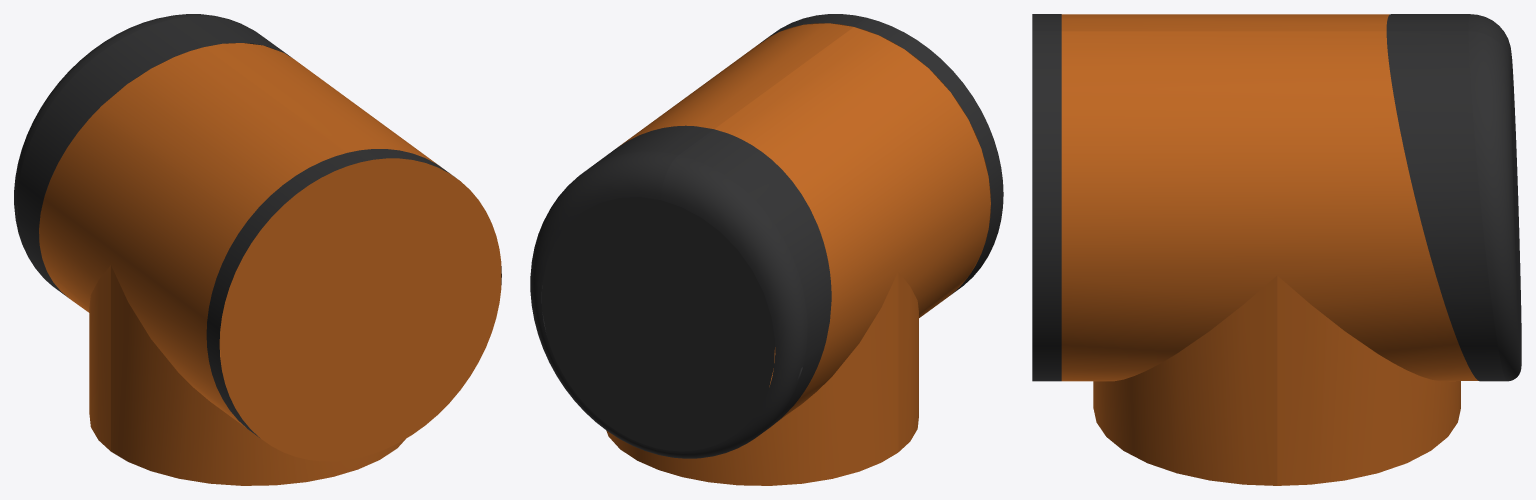
3 views of the same model, side by side, from view 1: azimuth 30°, elevation 25°; view 2: azimuth 150°, elevation 25°; view 3: azimuth 270°, elevation 25° (orthographic). The views are drawn at different scales.
Visible parts, largest first — view 1: mesh; view 2: mesh; view 3: mesh.
Boxes of the visible parts, x1,y1,x2,y2 form: mesh: (14,14,501,485); mesh: (530,14,1003,485); mesh: (1032,14,1521,485).
Bounding box in the file's own units: 87 × 116 × 98.5.
